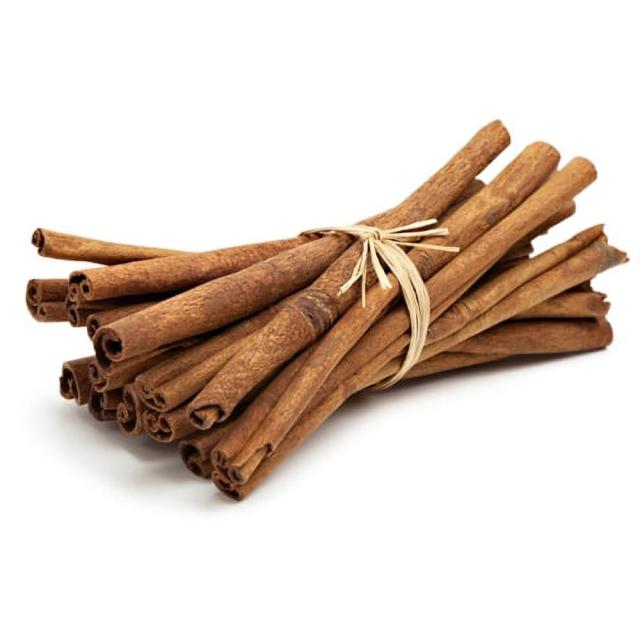Cinnamon: (24, 120, 628, 503)
